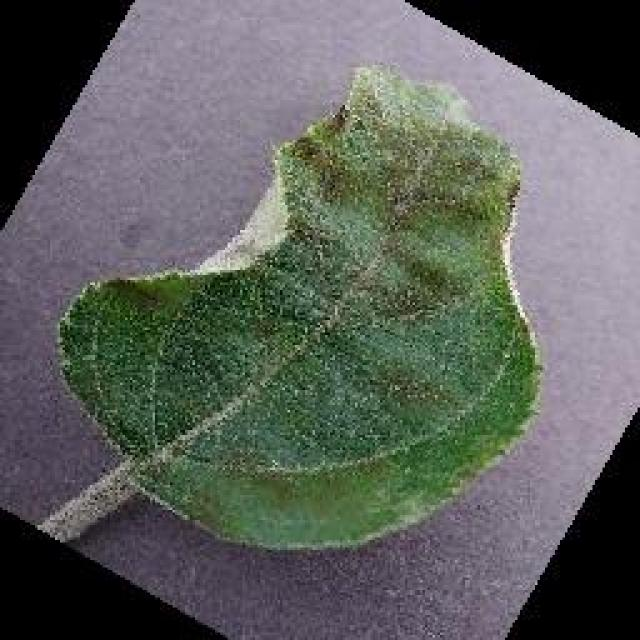apple scab disease: (43, 60, 545, 555)
